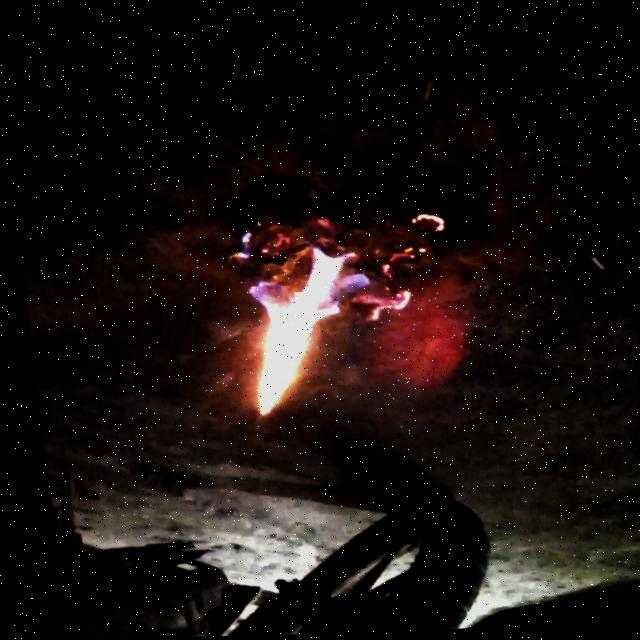Fire: (230, 244, 358, 418)
